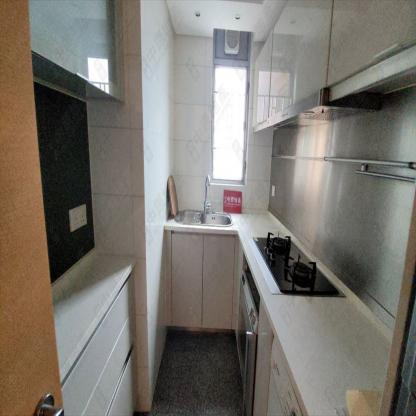Cupboard: (251, 0, 416, 127), (166, 231, 238, 326)
Exhaust Fan: (223, 29, 239, 54)
Exhaust Hood: (252, 89, 382, 133)
Faucet: (202, 171, 213, 212)
Oven: (238, 267, 260, 414)
Sink: (175, 208, 231, 226)
Stove: (248, 234, 345, 297)
